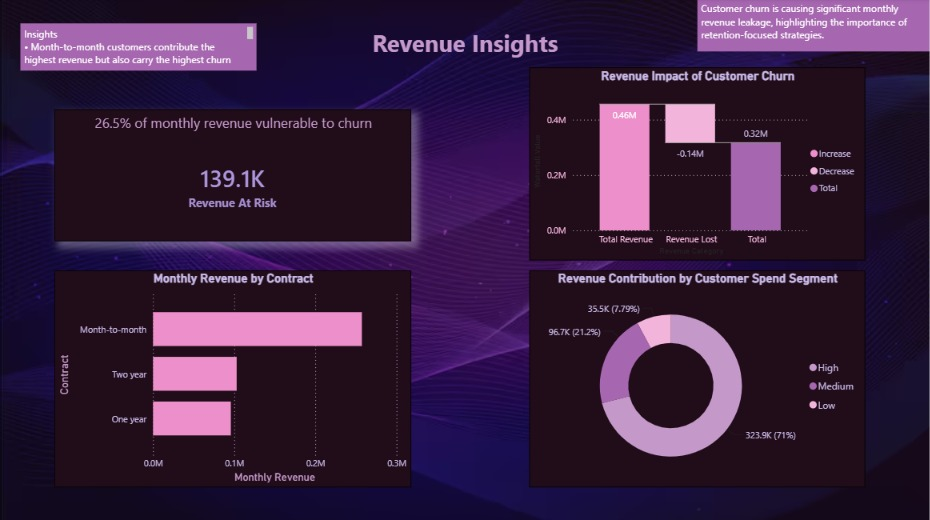

Layout of this report page (visuals, bound fields, positions):
{"tool":"powerbi","page":{"name":"Revenue Insights","canvas":[1280,720],"ordinal":3},"visuals":[{"type":"textbox","box":[500.3,34.2,279.4,279.4],"z":0},{"type":"clusteredBarChart","fields":{"Y":["Telco-Customer-Churn.Monthly Revenue"],"Category":["Telco-Customer-Churn.Contract"]},"box":[76.8,373.2,489.9,297.8],"z":1000},{"type":"cardVisual","fields":{"Data":["Telco-Customer-Churn.Revenue At Risk"]},"box":[76.8,152.3,489.9,181.1],"z":2000},{"type":"donutChart","title":"Revenue Contribution by Customer Spend Segment","fields":{"Y":["Telco-Customer-Churn.Monthly Revenue"],"Category":["Telco-Customer-Churn.Monthy Charge Category"]},"box":[728.6,373.2,461.1,297.8],"z":3000},{"type":"waterfallChart","title":"Revenue Impact of Customer Churn","fields":{"Y":["Revenue Waterfall.Waterfall Value"],"Category":["Revenue Waterfall.Revenue Category"]},"box":[728.6,94.7,461.1,264.8],"z":4000},{"type":"textbox","box":[959.2,0,321.1,72.7],"z":5000},{"type":"textbox","box":[30.2,34.3,323.8,64.5],"z":6000}]}

Visuals, with their boxes in screenshot pixels (x1, y1, x2, y2), scaled from the page's 1280x720 canvas onto the 930x520 screenshot:
textbox: (363, 25, 567, 226)
clusteredBarChart - Telco-Customer-Churn.Monthly Revenue x Telco-Customer-Churn.Contract: (56, 270, 412, 485)
cardVisual - Telco-Customer-Churn.Revenue At Risk: (56, 110, 412, 241)
"Revenue Contribution by Customer Spend Segment" donutChart: (529, 270, 864, 485)
"Revenue Impact of Customer Churn" waterfallChart: (529, 68, 864, 260)
textbox: (697, 0, 929, 53)
textbox: (22, 25, 257, 71)
